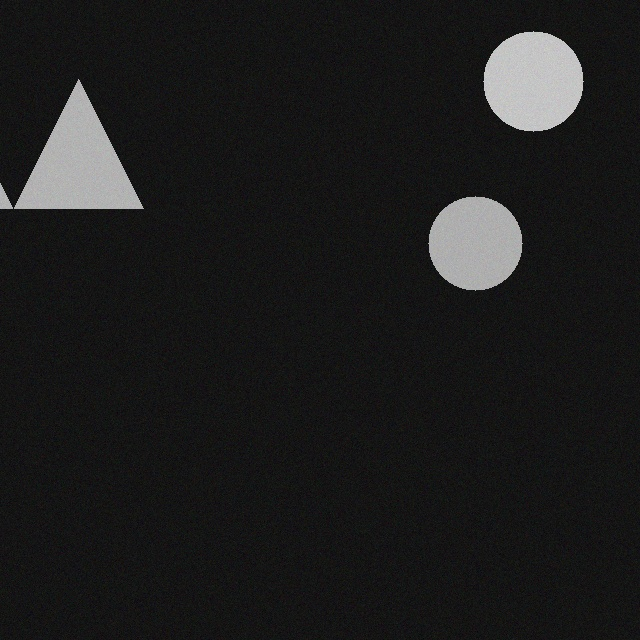circle: (470, 24, 570, 124), (415, 189, 509, 283)
triangle: (1, 72, 130, 201)
